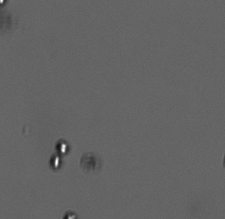Living Cell: (54, 139, 71, 155), (48, 151, 63, 169)
